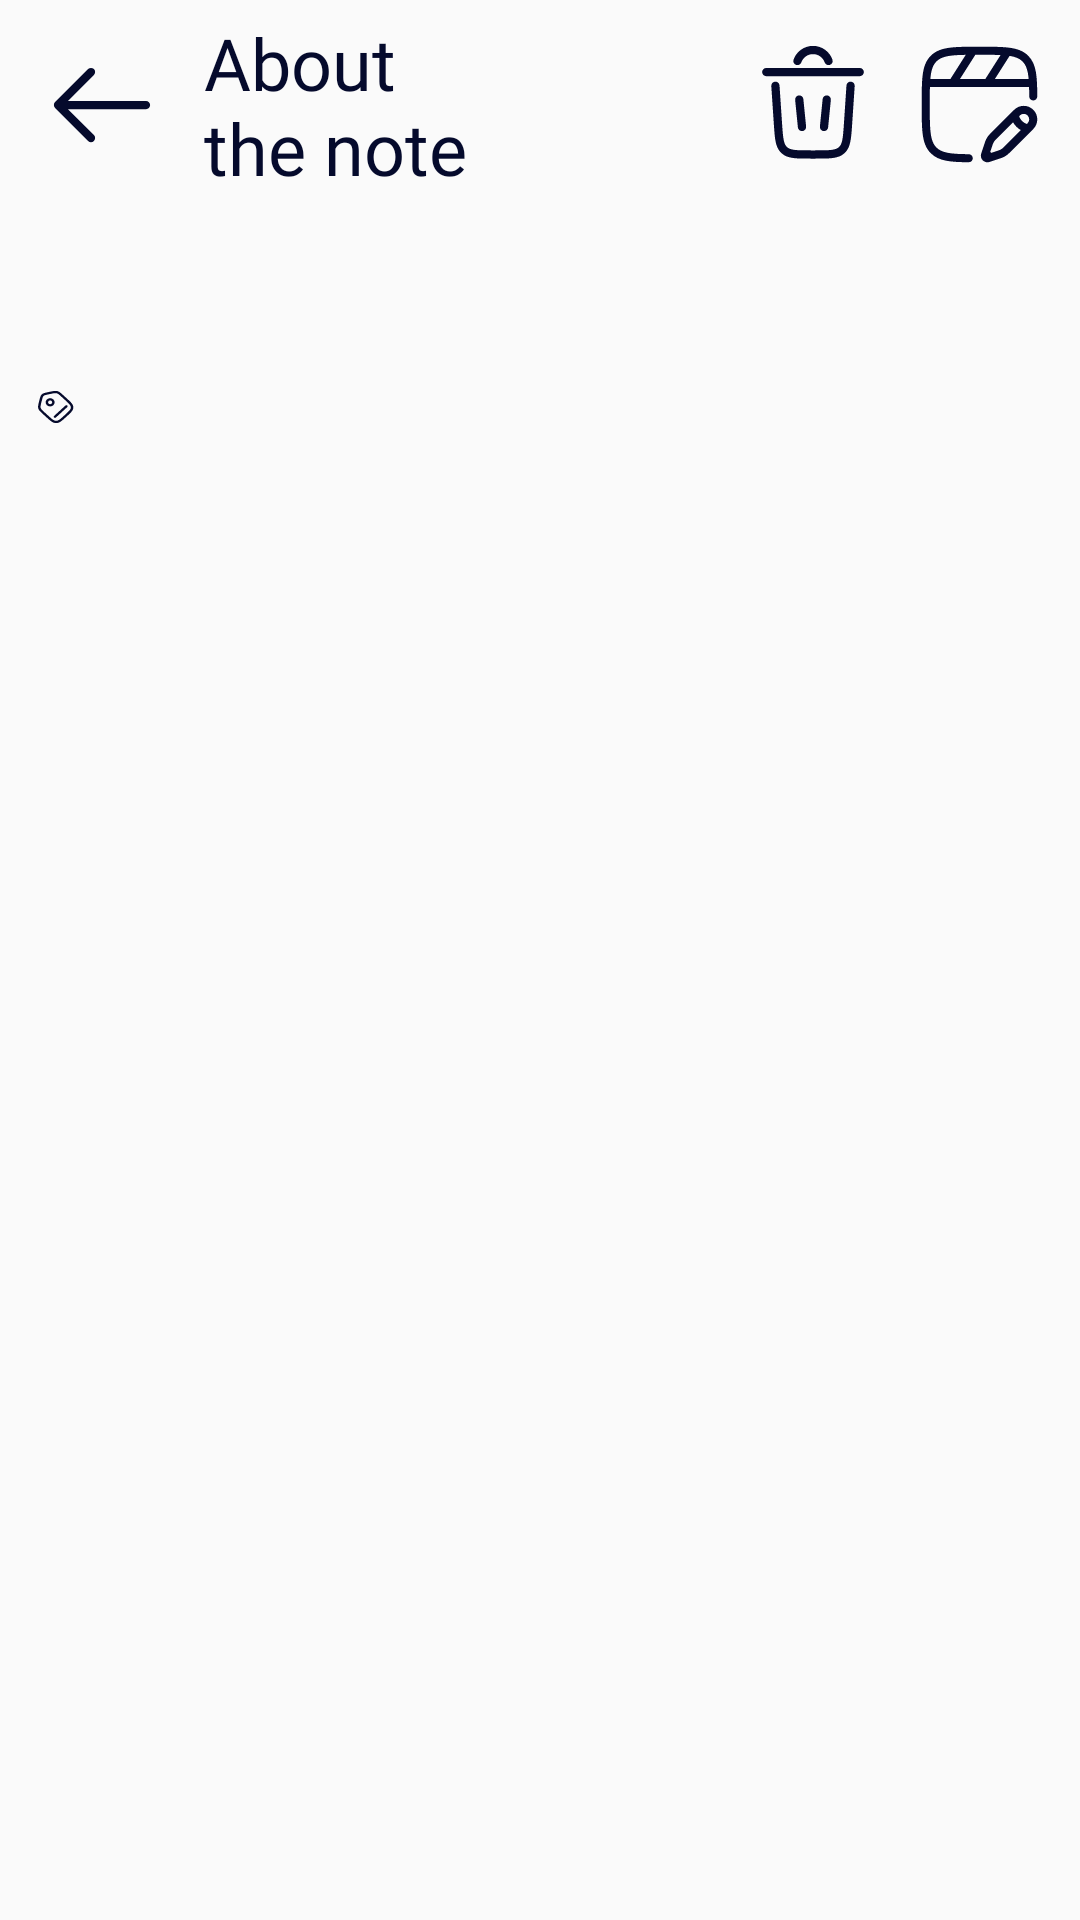

Icon bounding boxes for this 1080px×1920px phone screenshot, format [x1,y1,x2,y2]:
Back: [54,68,150,143]
Delete a note: [762,46,864,159]
Edit note: [921,46,1038,163]
